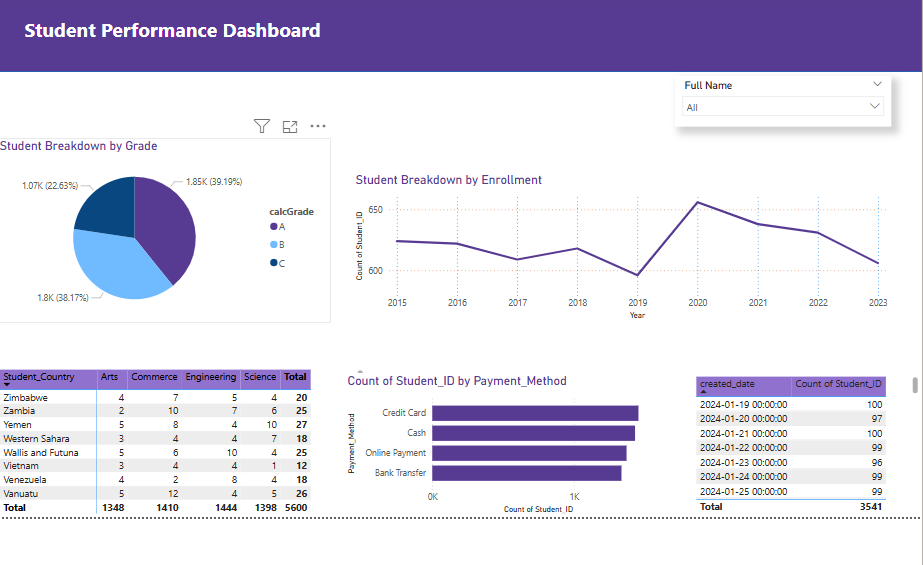

This screenshot's page, from the dashboard's own definition file:
{"tool":"powerbi","page":{"name":"Page 1","canvas":[1280,720],"ordinal":0},"visuals":[{"type":"pieChart","title":"Student Breakdown by Grade","fields":{"Category":["mydatabase exams_data.calcGrade"],"Y":["Count(mydatabase exams_data.Student_ID)"]},"box":[0,196.4,462.8,255.5],"z":0},{"type":"shape","box":[0,0,1280,105.1],"z":1000},{"type":"textbox","box":[34.3,22,892.7,60.4],"z":2000},{"type":"lineChart","title":"Student Breakdown by Enrollment","fields":{"Category":["mydatabase student_data.Enrollment_Date.Variation.Date Hierarchy.Year","mydatabase student_data.Enrollment_Date.Variation.Date Hierarchy.Month"],"Y":["CountNonNull(mydatabase student_data.Student_ID)"]},"box":[492.1,243.3,745.1,208.7],"z":3000},{"type":"pivotTable","fields":{"Rows":["mydatabase student_data.Student_Country"],"Columns":["mydatabase student_data.Department"],"Values":["Count(mydatabase student_data.Student_ID)"]},"box":[0,511.4,512.8,208.7],"z":4000},{"type":"barChart","fields":{"Category":["mydatabase payments_data.Payment_Method"],"Y":["CountNonNull(mydatabase payments_data.Student_ID)"]},"box":[481,521.1,435.4,199],"z":5000},{"type":"slicer","fields":{"Values":["mydatabase student_data.Full Name"]},"box":[938.6,110.6,298.6,70.5],"z":6000},{"type":"tableEx","fields":{"Values":["mydatabase exams_data.created_date","mydatabase exams_data.Student_ID"]},"box":[962,521,318,199],"z":7000}]}

Visuals, with their boxes on the page's 1280x720 design canvas (x1, y1, x2, y2). These are canvas units, not pixel positions in the 923x565 screenshot, which may show the page scaled, cropped or inside an application window:
"Student Breakdown by Grade" pieChart: crop(0, 196, 463, 452)
shape: crop(0, 0, 1280, 105)
textbox: crop(34, 22, 927, 82)
"Student Breakdown by Enrollment" lineChart: crop(492, 243, 1237, 452)
pivotTable - mydatabase student_data.Student_Country x mydatabase student_data.Department: crop(0, 511, 513, 720)
barChart - mydatabase payments_data.Payment_Method x CountNonNull(mydatabase payments_data.Student_ID): crop(481, 521, 916, 720)
slicer - mydatabase student_data.Full Name: crop(939, 111, 1237, 181)
tableEx - mydatabase exams_data.created_date x mydatabase exams_data.Student_ID: crop(962, 521, 1280, 720)
